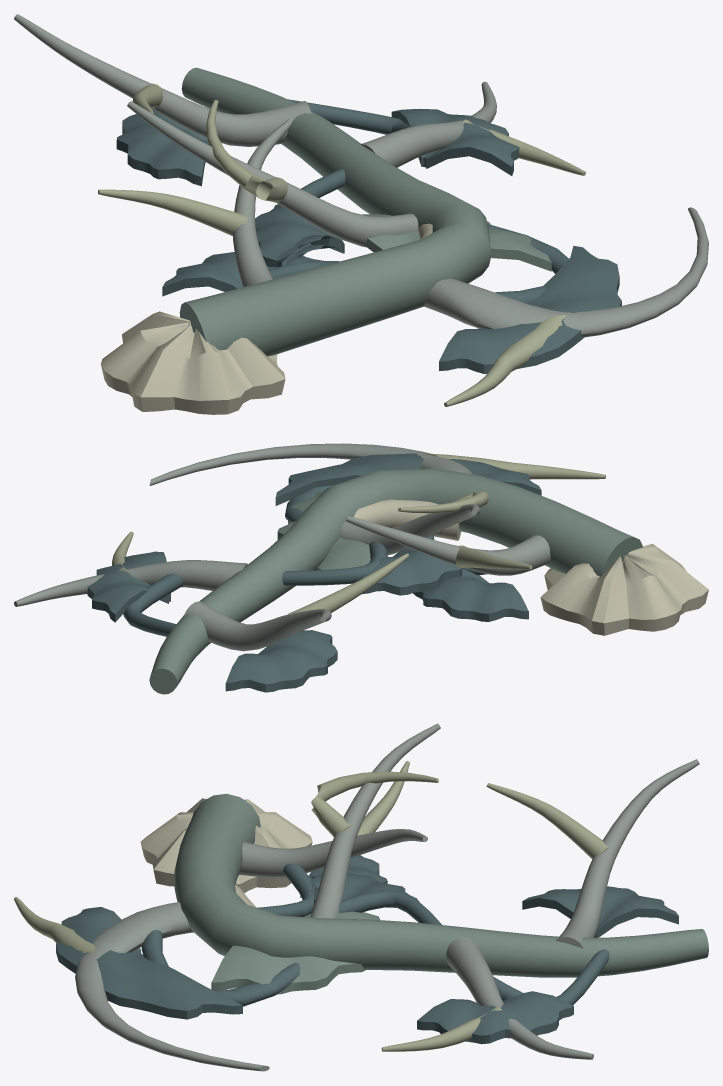
Rendered from nerve_lace_corner_lod0.glb.
3 views of the same model, one above another, from view 1: azimuth 30°, elevation 25°; view 2: azimuth 150°, elevation 25°; view 3: azimuth 270°, elevation 25° (orthographic). The views are drawn at different scales.
Visible parts, largest first — view 1: LOD0_tissue_mature, LOD0_tissue, LOD0_tissue_fold, LOD0_calcite, LOD0_tissue_young; view 2: LOD0_tissue_mature, LOD0_tissue_fold, LOD0_tissue, LOD0_calcite, LOD0_tissue_young; view 3: LOD0_tissue_mature, LOD0_tissue_fold, LOD0_tissue, LOD0_tissue_young, LOD0_calcite.
Part boxes in pixels (left/top/right/bottom): LOD0_tissue_mature: left=179, top=67, right=551, bottom=356; LOD0_tissue: left=14, top=14, right=708, bottom=337; LOD0_tissue_fold: left=116, top=99, right=621, bottom=373; LOD0_calcite: left=101, top=223, right=432, bottom=414; LOD0_tissue_young: left=98, top=83, right=585, bottom=406; LOD0_tissue_mature: left=149, top=468, right=642, bottom=694; LOD0_tissue_fold: left=87, top=453, right=541, bottom=692; LOD0_tissue: left=14, top=443, right=550, bottom=651; LOD0_calcite: left=354, top=499, right=708, bottom=635; LOD0_tissue_young: left=112, top=453, right=605, bottom=632; LOD0_tissue_mature: left=174, top=793, right=708, bottom=994; LOD0_tissue_fold: left=56, top=855, right=678, bottom=1044; LOD0_tissue: left=75, top=723, right=699, bottom=1071; LOD0_tissue_young: left=14, top=761, right=608, bottom=1051; LOD0_calcite: left=140, top=798, right=312, bottom=907.
Size of the model in its own units: 2.97 by 0.8471 by 3.3.
